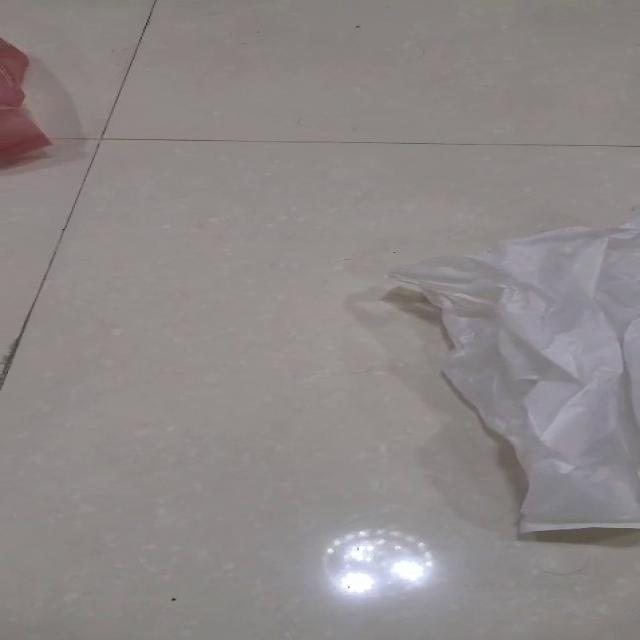plastic: (382, 220, 638, 533)
